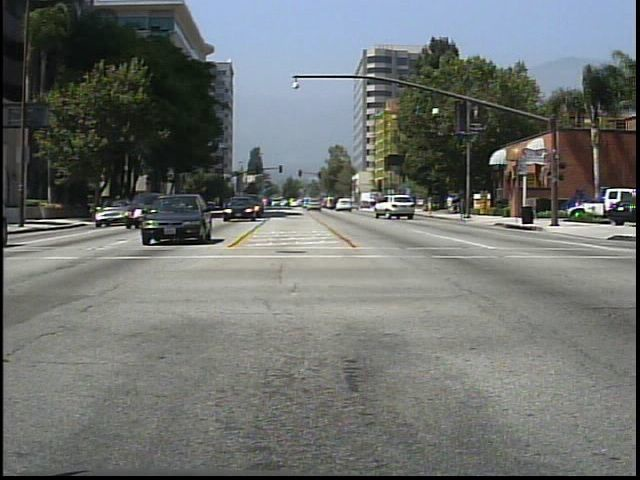person: (425, 193, 435, 217), (445, 194, 456, 215)
